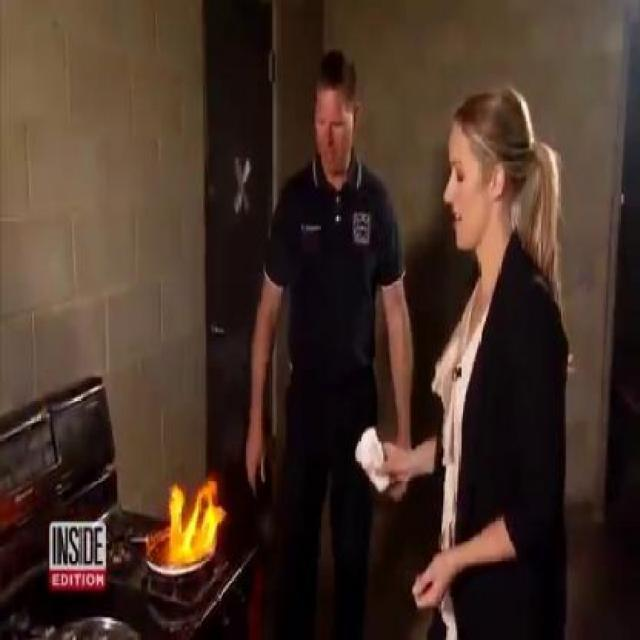fire: (154, 474, 228, 550)
